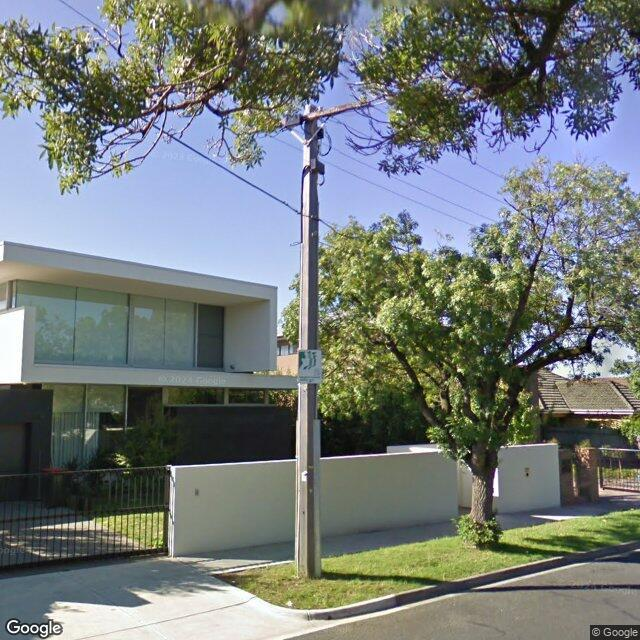crossarm: (247, 98, 374, 134)
timber-pole: (294, 104, 322, 578)
